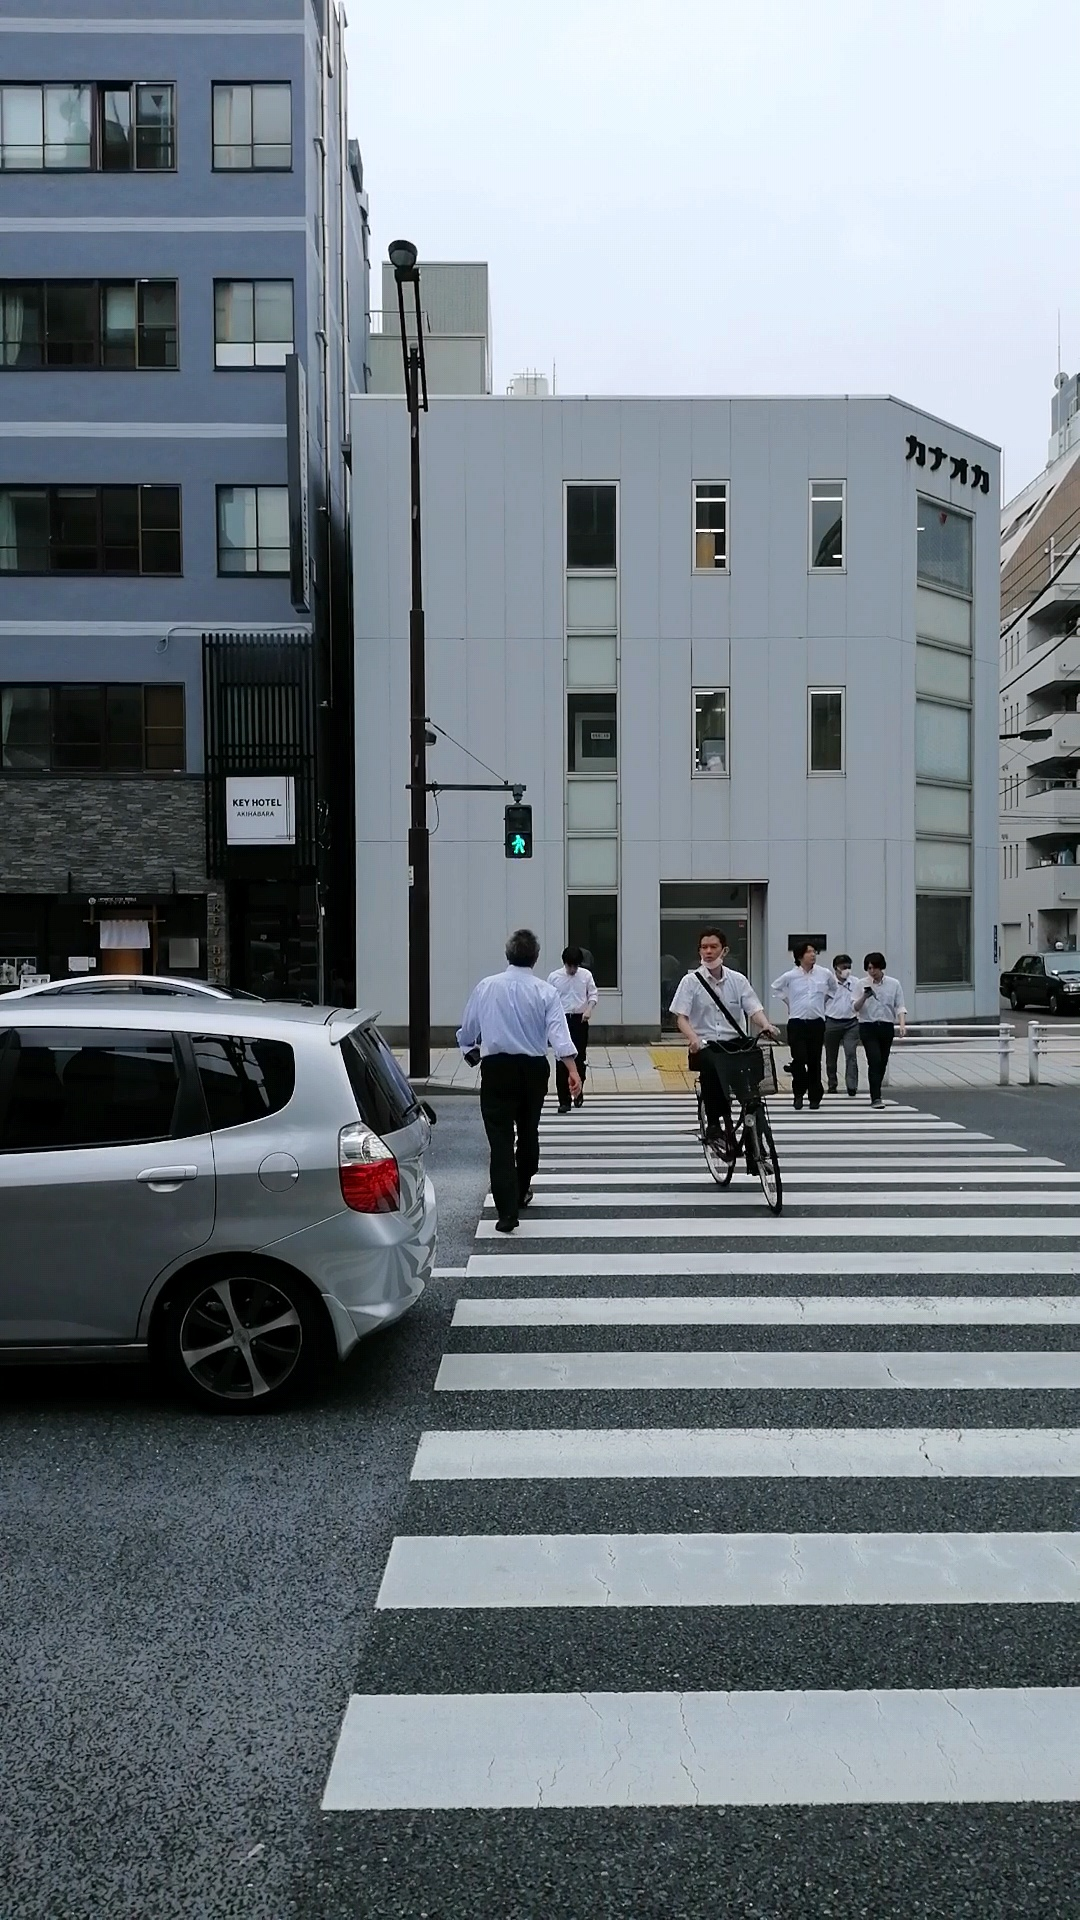green: (505, 806, 531, 858)
